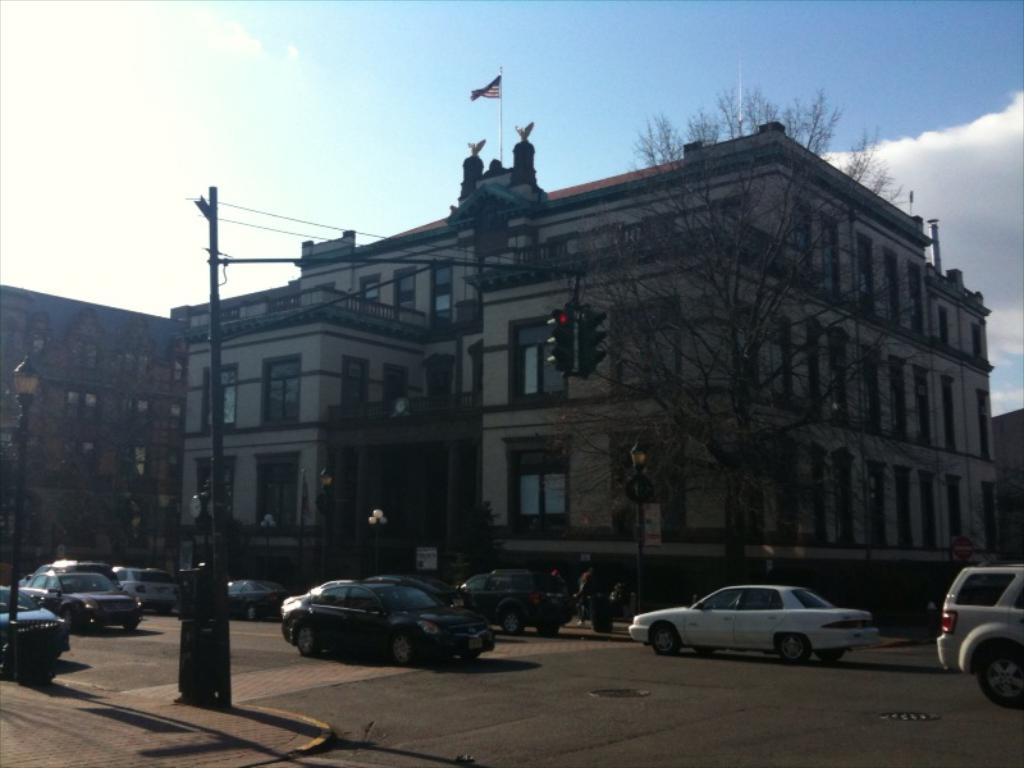Car: (625, 579, 879, 665), (285, 581, 494, 663), (930, 560, 1022, 709), (458, 563, 576, 629), (15, 568, 139, 623), (0, 579, 66, 666), (225, 572, 289, 623), (115, 560, 172, 608)
